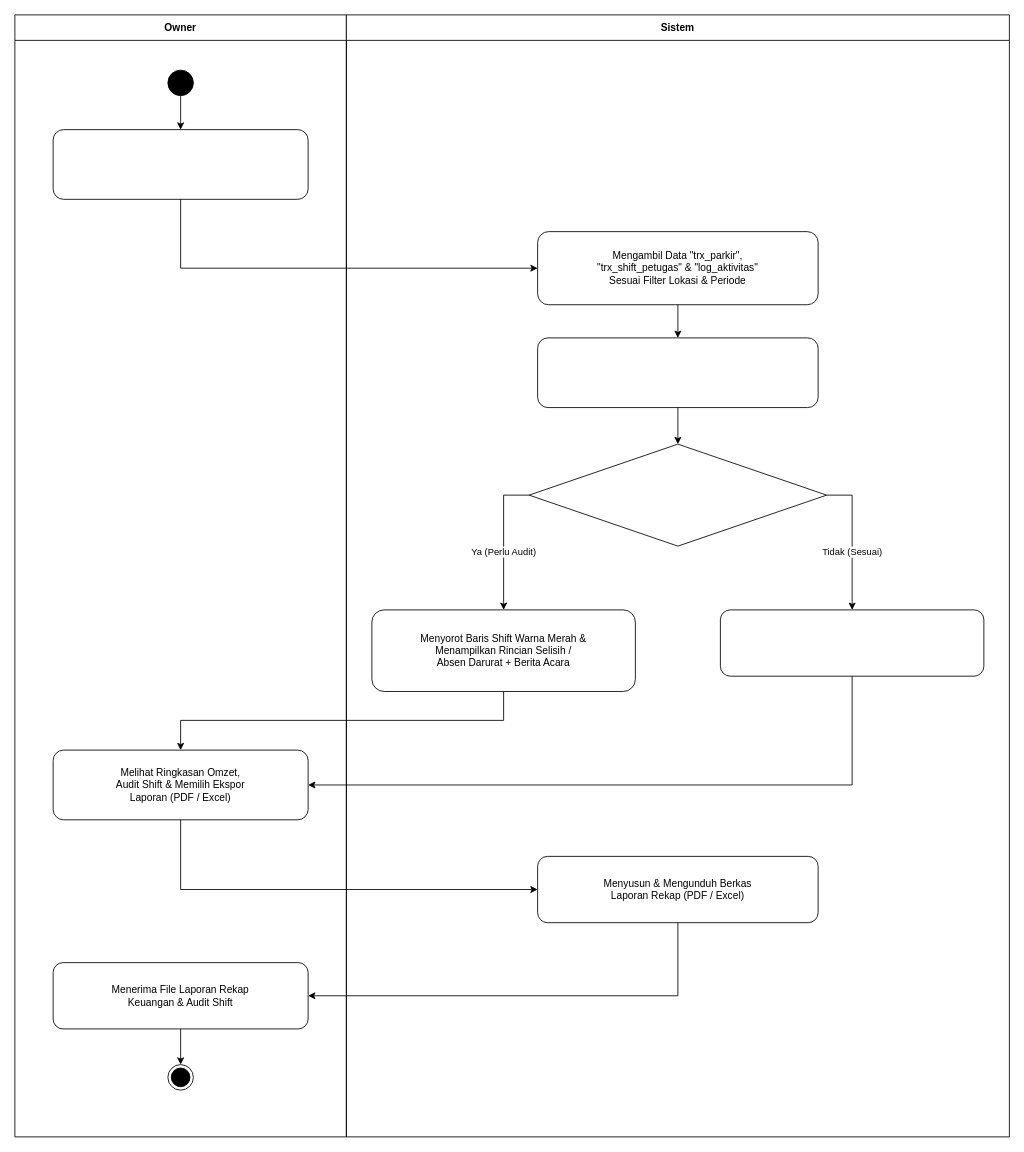
Image size: 1024x1152. Some labels were removed from this diagram. The box of each missing label's shape, as (x1, y1, x2, y2) in pixels:
Apakah Ada Shift Berstatus flag_selisih atau Absen Darurat?: (528, 443, 827, 546)
Membuka Dashboard Owner & Memilih Cabang Mal serta Rentang Tanggal Laporan: (52, 129, 308, 199)
Menampilkan Semua Shift Berstatus Hijau (Sesuai): (720, 609, 984, 676)
Menghitung Total Omzet (Pisah Tunai vs QRIS) & Mengecek Status Audit Shift Kasir: (537, 337, 818, 408)
